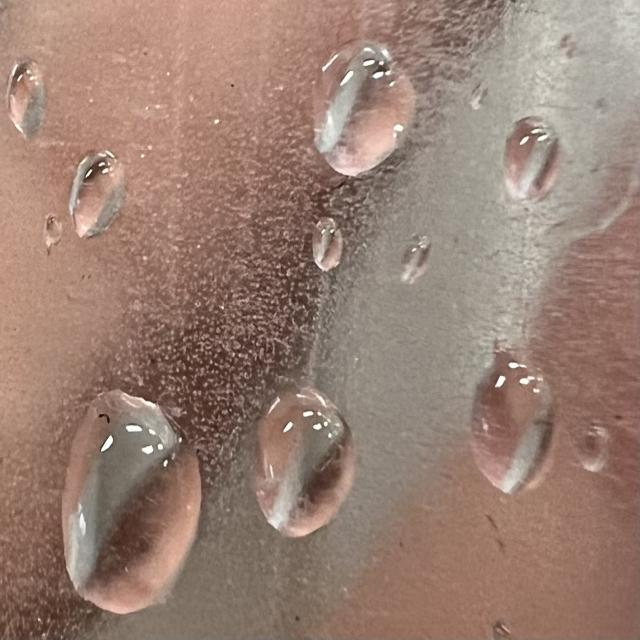raindrop: (58, 373, 217, 623), (252, 384, 370, 557), (300, 26, 423, 182), (467, 344, 560, 490), (489, 120, 569, 208), (64, 142, 130, 240), (2, 56, 53, 147), (294, 214, 340, 281), (568, 418, 613, 475), (392, 242, 434, 290), (45, 209, 71, 256)
